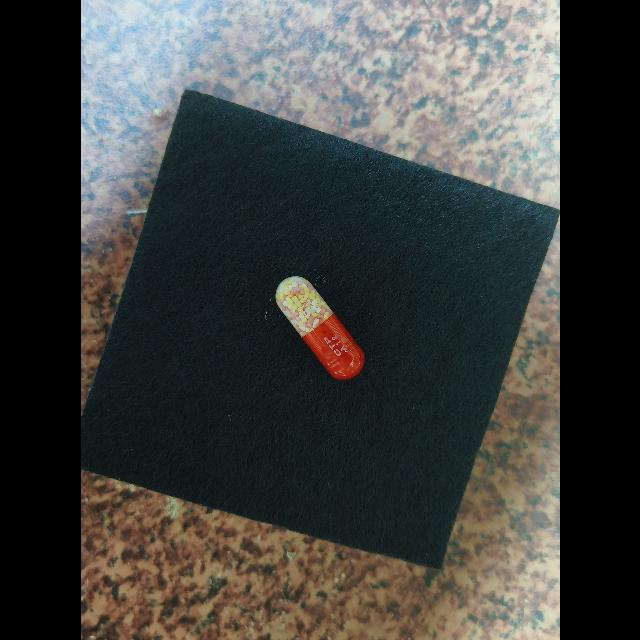Intact Capsule: (275, 276, 364, 380)
